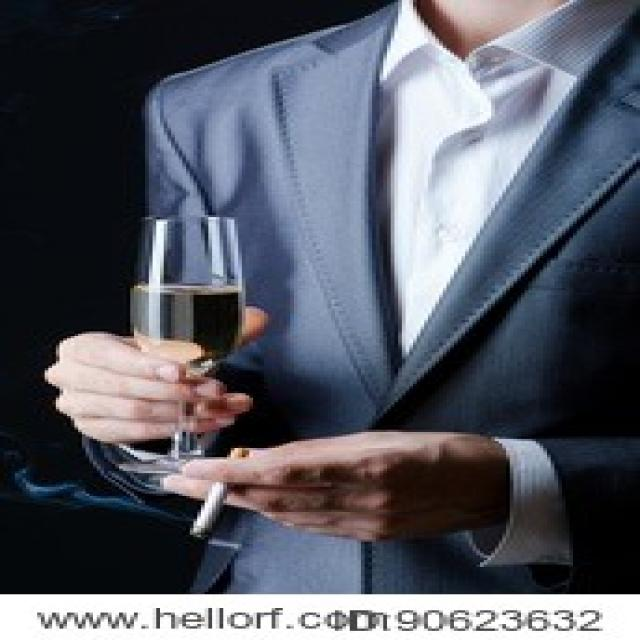cigarette: (189, 443, 249, 539)
